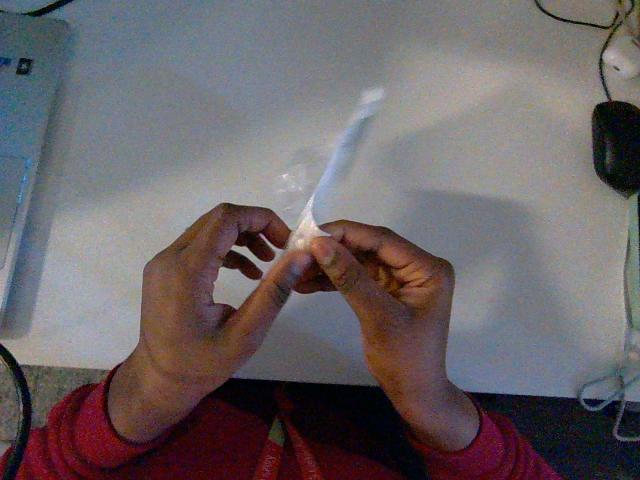gallipot: (286, 88, 383, 249)
